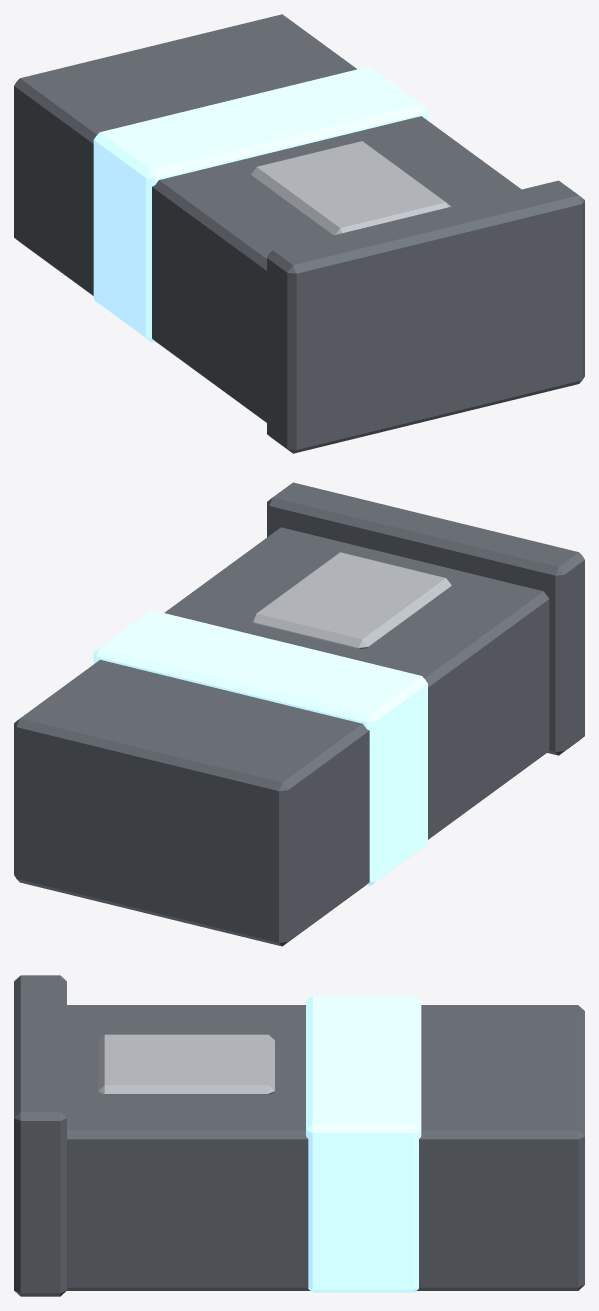
Rendered from thermal_clip.glb.
3 views of the same model, one above another, from view 1: azimuth 30°, elevation 25°; view 2: azimuth 150°, elevation 25°; view 3: azimuth 270°, elevation 25° (orthographic). The views are drawn at different scales.
Visible parts, largest first — view 1: thermal_clip; view 2: thermal_clip; view 3: thermal_clip.
Boxes of the visible parts, box(x1,y1,x2,y2) form: thermal_clip: box(14, 14, 584, 453); thermal_clip: box(14, 482, 584, 946); thermal_clip: box(14, 975, 584, 1296).
Size of the model in its own units: 0.076 by 0.046 by 0.129.
